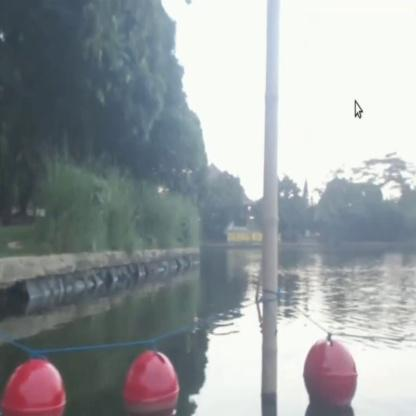red_buoy: (302, 338, 358, 414), (124, 350, 183, 414), (0, 360, 72, 408)
